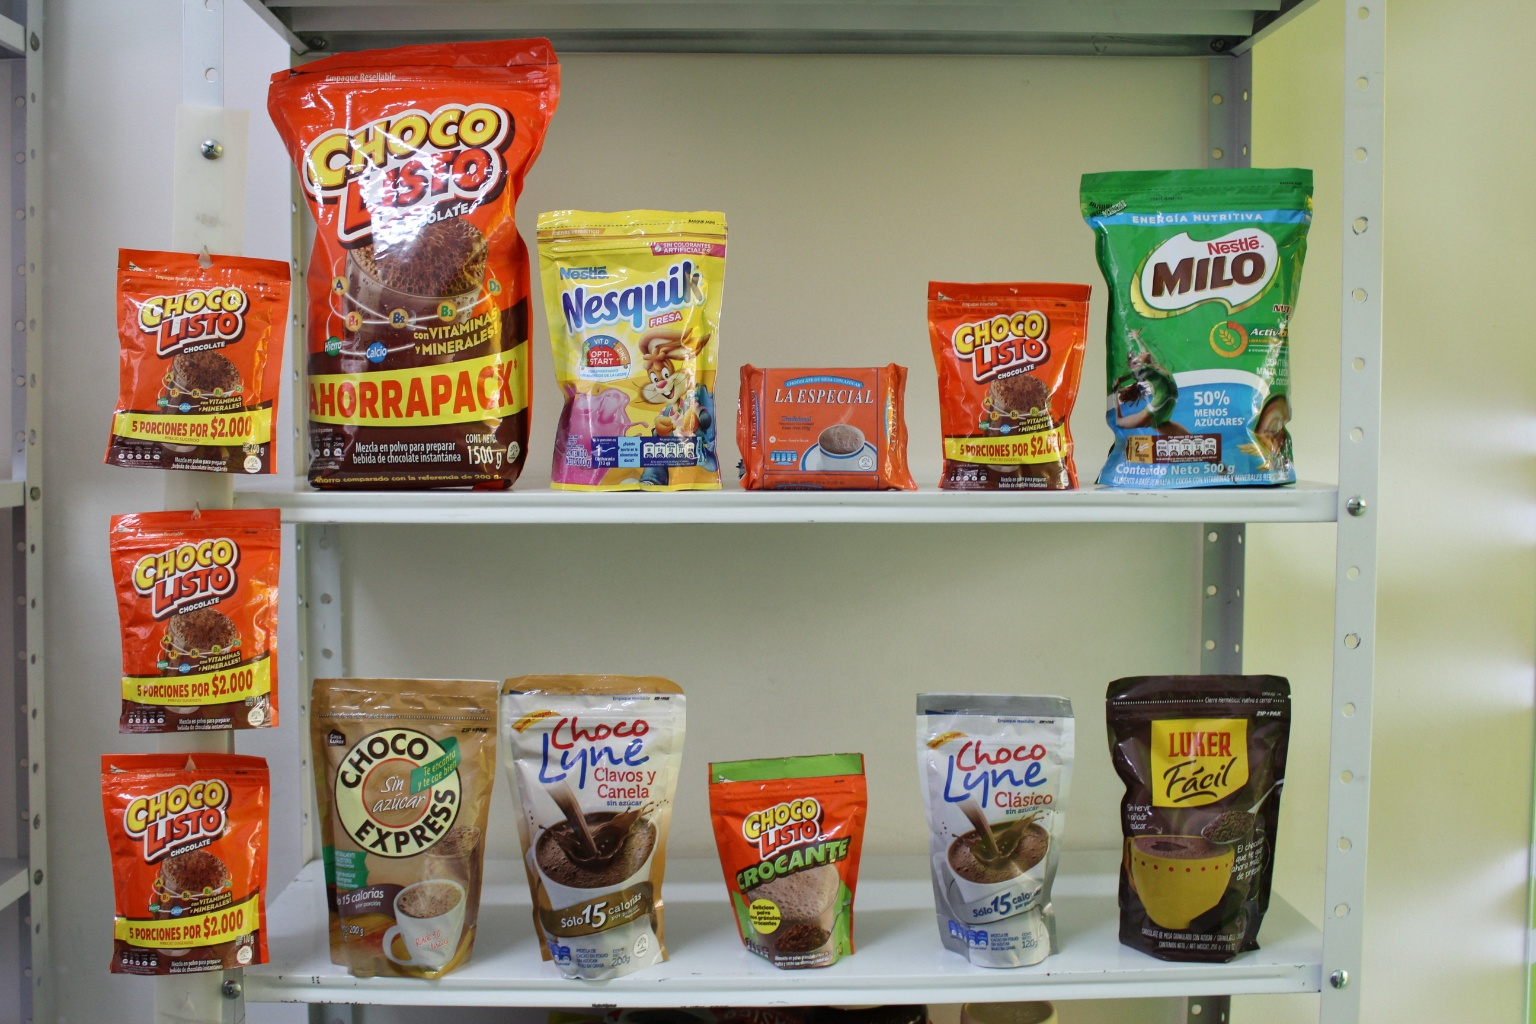COL0170102DYP10000: (699, 750, 873, 987)
COL0170103DYP1,500: (265, 25, 565, 491)
COL0170103DYP10000: (107, 510, 283, 730)
COL0170205DYP50000: (1075, 155, 1337, 490)
COL0170305DYP20000: (523, 184, 741, 494)
